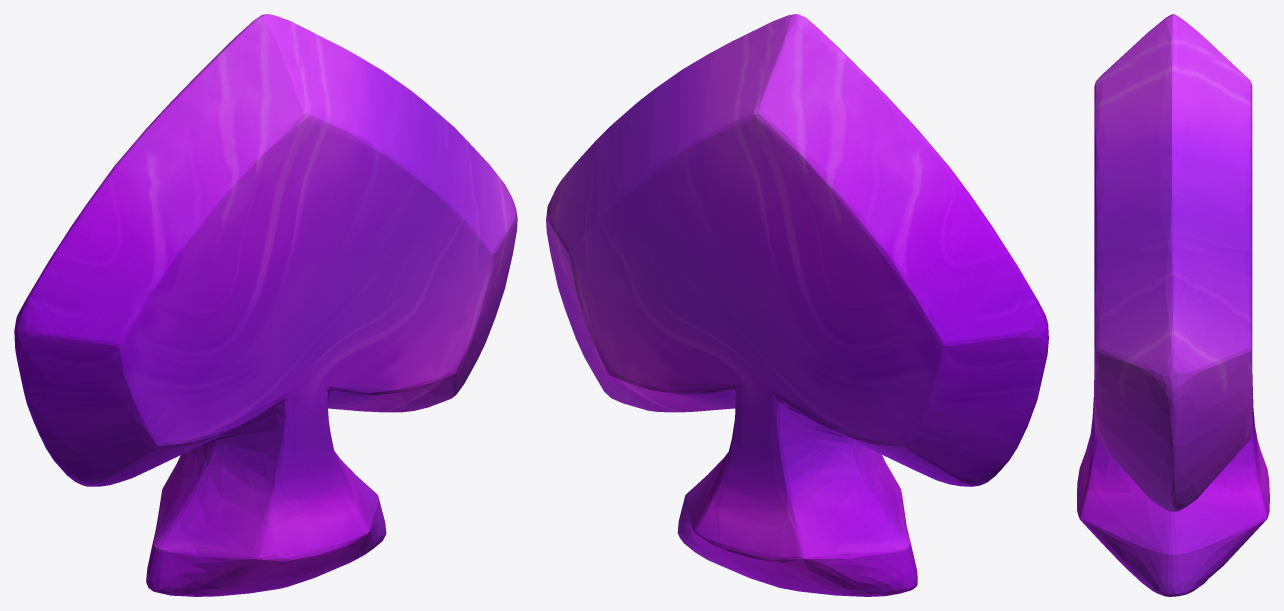
The model's file is Spade_symbol_lp.fbx.
3 views of the same model, side by side, from view 1: azimuth 30°, elevation 25°; view 2: azimuth 150°, elevation 25°; view 3: azimuth 270°, elevation 25° (orthographic). The views are drawn at different scales.
Parts seen in each view (by area): view 1: spade_hp; view 2: spade_hp; view 3: spade_hp.
Part boxes in pixels (<box>): spade_hp: <box>14,14,517,596</box>; spade_hp: <box>546,14,1048,596</box>; spade_hp: <box>1077,14,1269,596</box>.
Size of the model in its own units: 634 by 686 by 220.
1 material, 1 textured.
